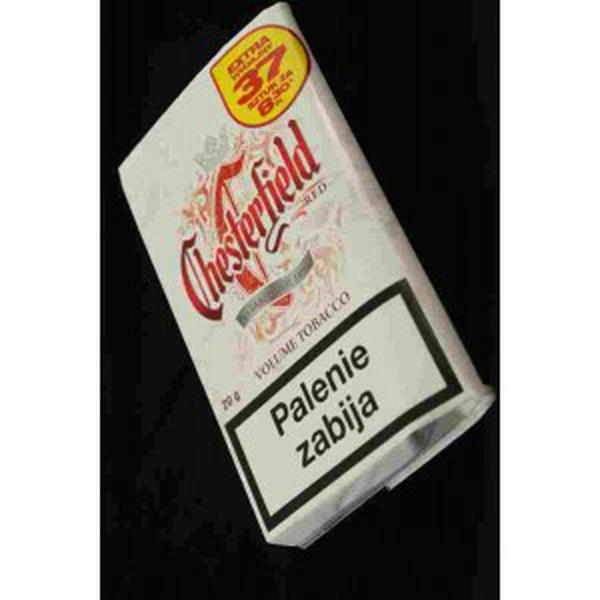chesterfield_red: (173, 71, 377, 471)
